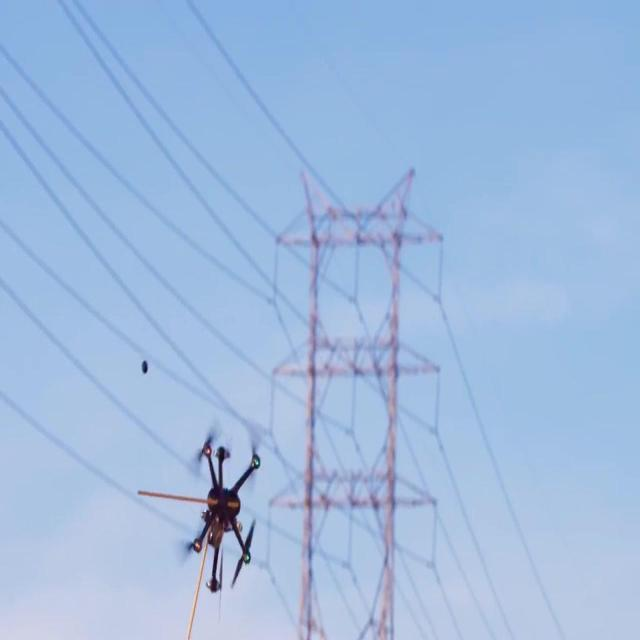drone: (186, 438, 262, 594)
